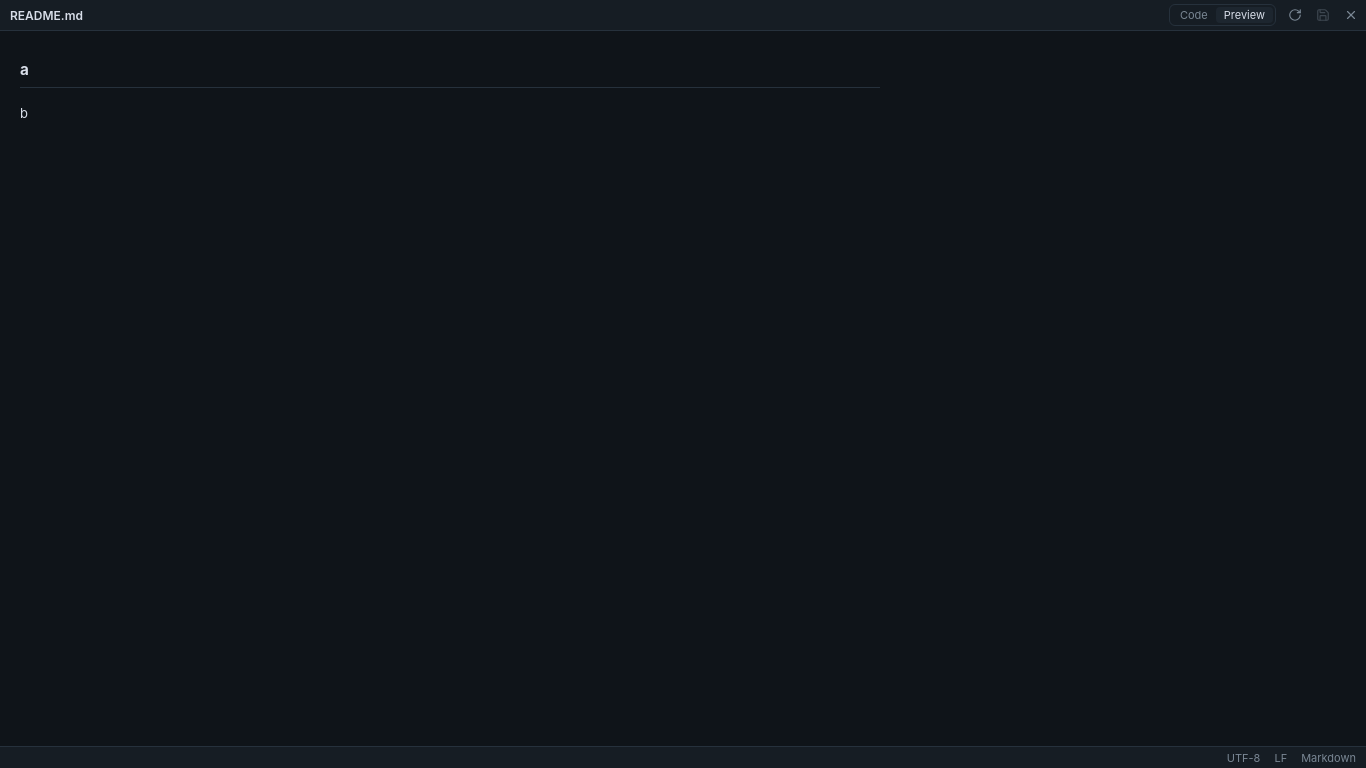
Test case: FileViewer status bar: encoding, line endings and language › offers no line ending change while a Markdown file shows rendered
Check: the heading "a" is shown, box [20,58,880,88]
Check: the button "LF" is disabled, box [1274,750,1287,764]
What coordinates should you click on to do the following:
click the radio button labelled "Code"
I would click on:
 (1194, 15)
Its box is [1172,7,1216,23].
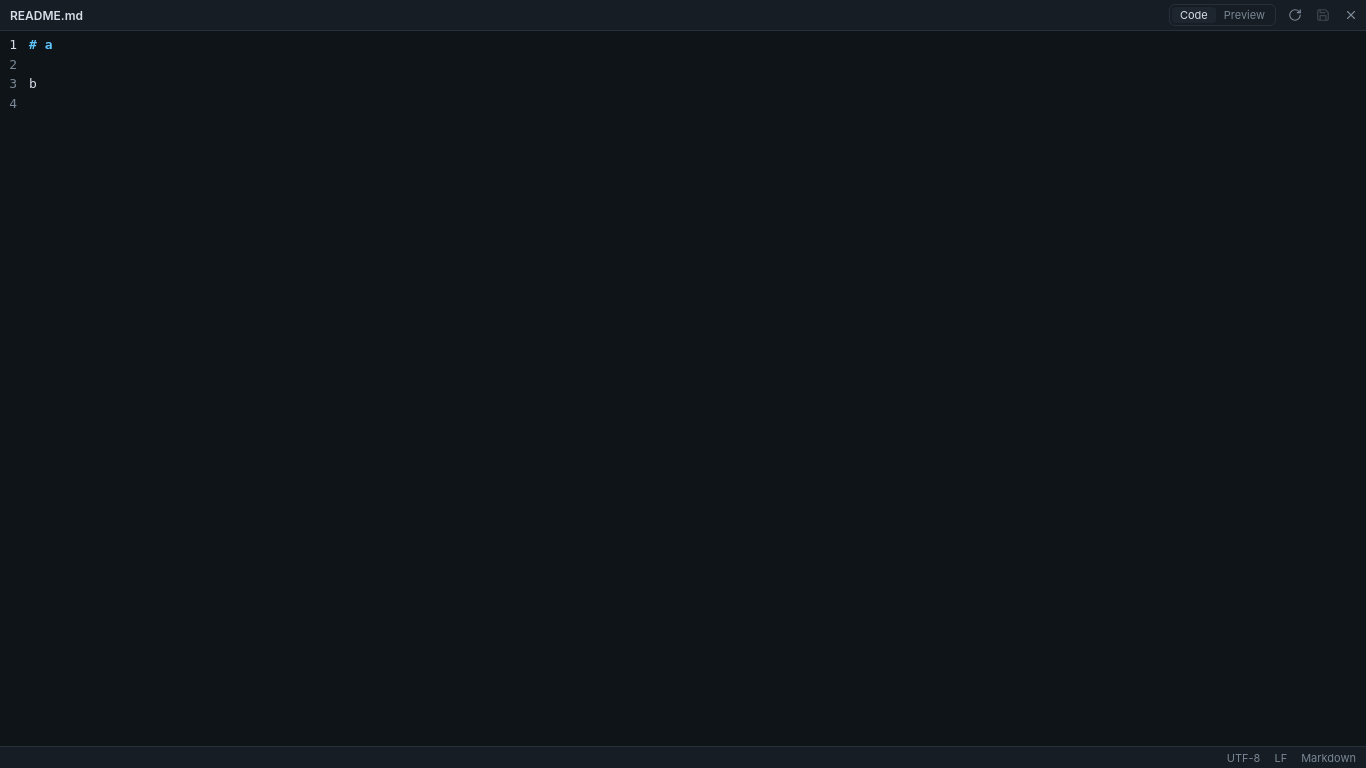
Check: the button "LF" is enabled, box [1274,750,1287,764]
Check: the field with class "cm-content" reads "# a b", box [29,37,52,91]
